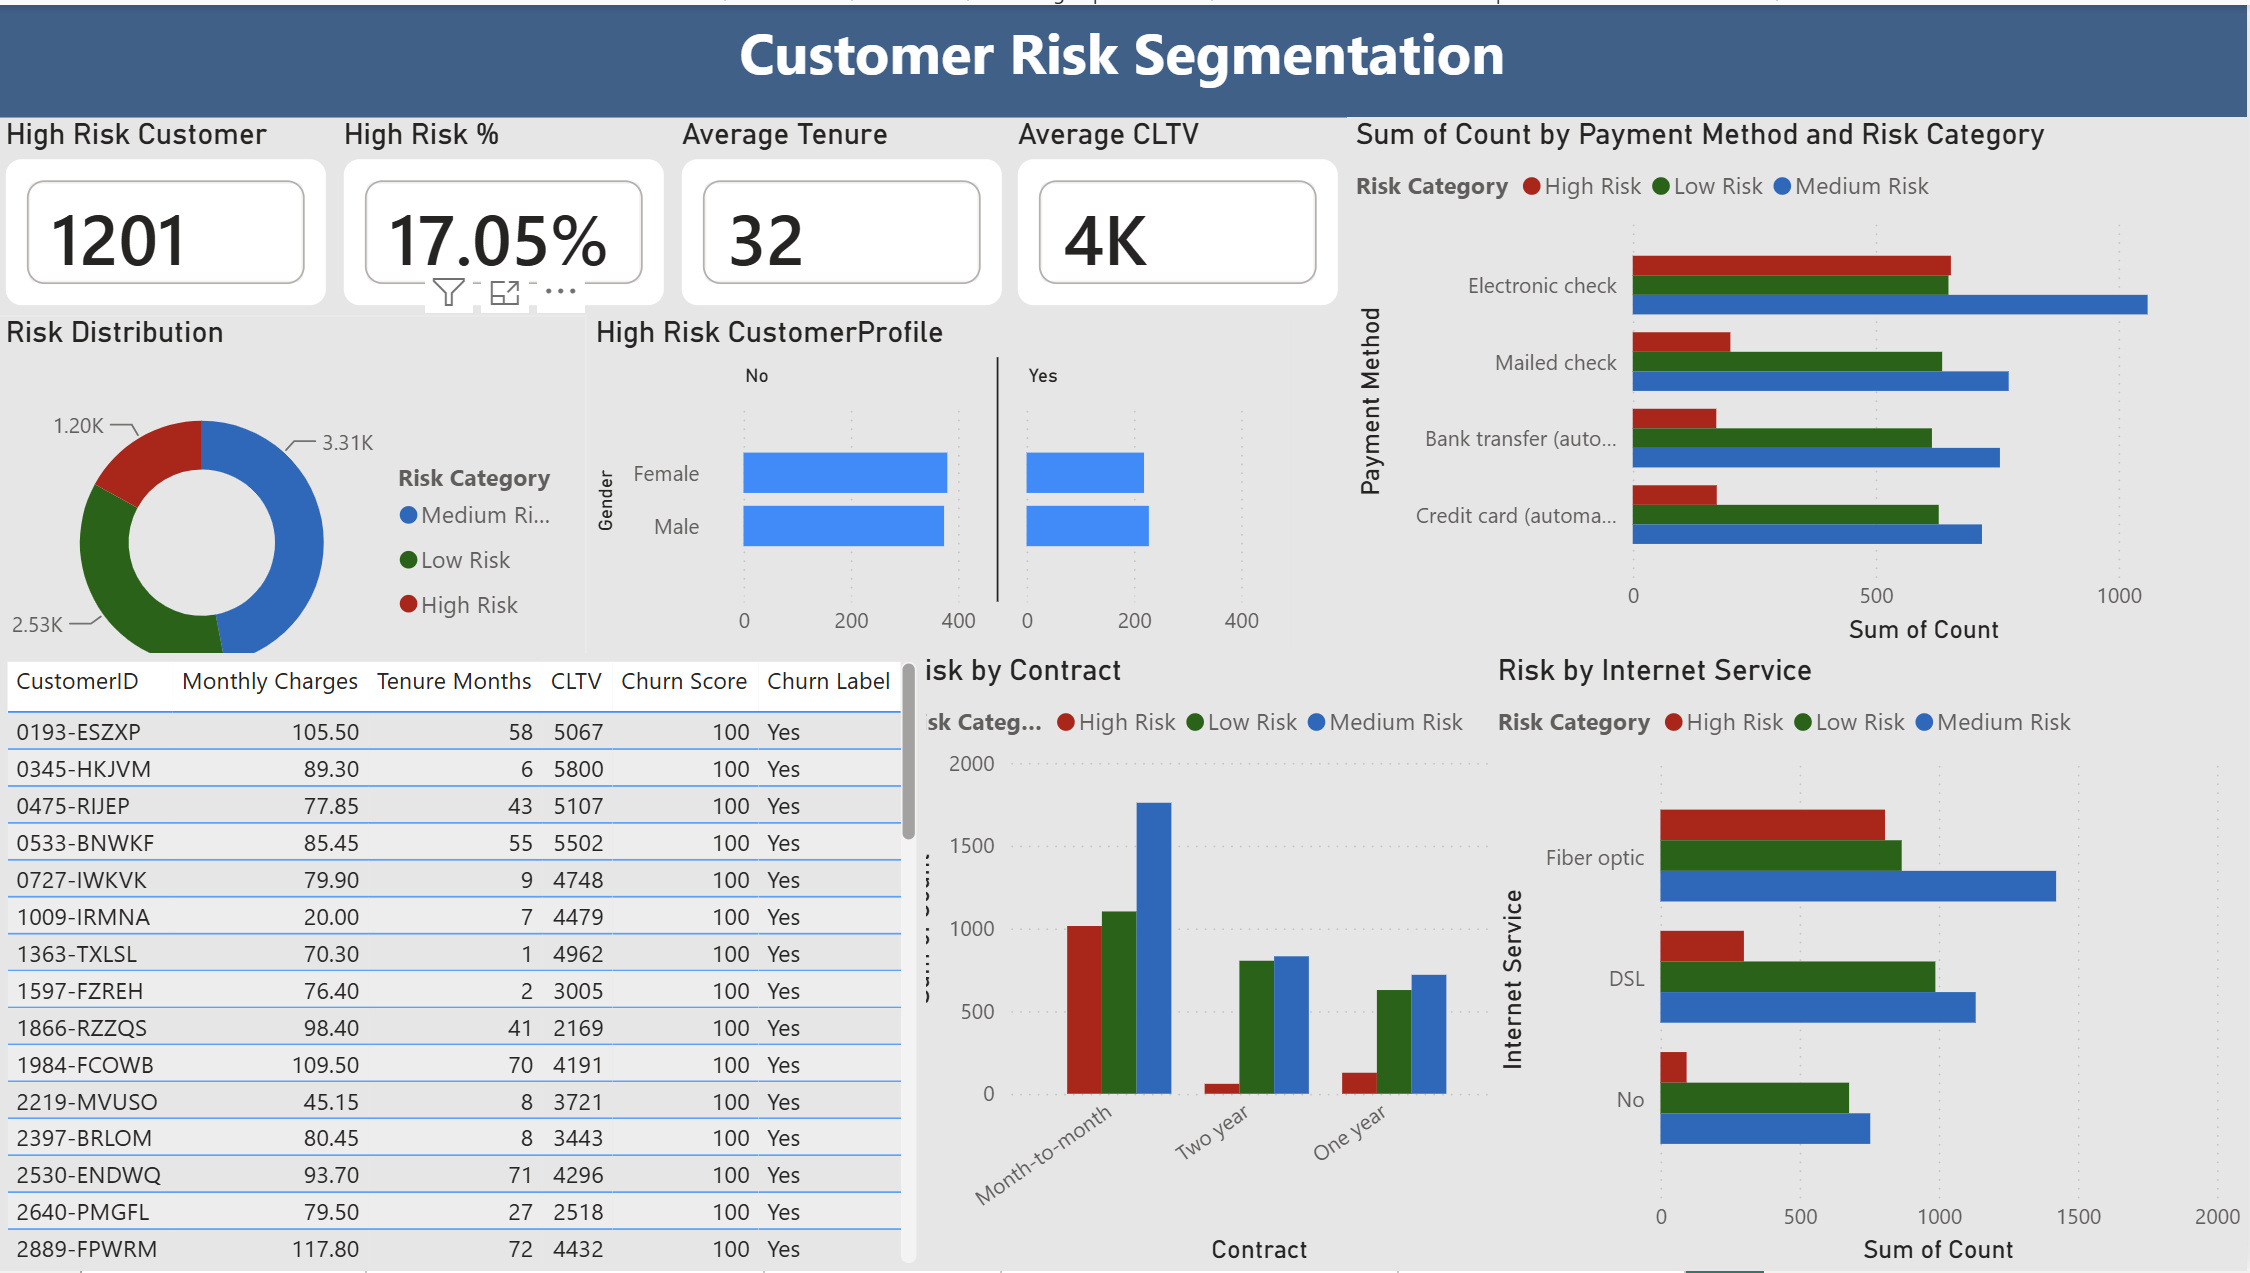

What the dashboard file says about the page in this screenshot:
{"tool":"powerbi","page":{"name":"Customer Risk Segmentation","canvas":[1280,720],"ordinal":3},"visuals":[{"type":"cardVisual","title":"Average CLTV","fields":{"Data":["Measures_Table.Average CLTV"]},"box":[576,64,192,112],"z":0},{"type":"cardVisual","title":"High Risk Customer","fields":{"Data":["Measures_Table.High Risk Customers"]},"box":[0,64,192,112],"z":1000},{"type":"cardVisual","title":"Average Tenure","fields":{"Data":["Measures_Table.Average Tenure"]},"box":[384,64,192,112],"z":2000},{"type":"cardVisual","title":"High Risk %","fields":{"Data":["Measures_Table.High Risk %"]},"box":[192,64,192,112],"z":3000},{"type":"textbox","box":[0,0,1280,64],"z":4000},{"type":"donutChart","title":"Risk Distribution","fields":{"Category":["telco_customer_clean.Risk Category"],"Y":["CountNonNull(telco_customer_clean.Count)"]},"box":[0,176,336,240],"z":5000},{"type":"clusteredColumnChart","title":"Risk by Contract","fields":{"Category":["telco_customer_clean.Contract"],"Series":["telco_customer_clean.Risk Category"],"Y":["Sum(telco_customer_clean.Count)"]},"box":[512,368,352,352],"z":6000},{"type":"clusteredBarChart","title":"Risk by Internet Service","fields":{"Category":["telco_customer_clean.Internet Service"],"Series":["telco_customer_clean.Risk Category"],"Y":["Sum(telco_customer_clean.Count)"]},"box":[848,368,432,352],"z":7000},{"type":"clusteredBarChart","fields":{"Category":["telco_customer_clean.Payment Method"],"Series":["telco_customer_clean.Risk Category"],"Y":["Sum(telco_customer_clean.Count)"]},"box":[768,64,512,304],"z":8000},{"type":"barChart","title":"High Risk CustomerProfile","fields":{"Rows":["telco_customer_clean.Partner"],"Category":["telco_customer_clean.Gender"],"Y":["Measures_Table.High Risk Customers"]},"box":[336,176,400,192],"z":9000},{"type":"tableEx","fields":{"Values":["telco_customer_clean.CustomerID","telco_customer_clean.Monthly Charges","telco_customer_clean.Tenure Months","telco_customer_clean.CLTV","telco_customer_clean.Churn Score","telco_customer_clean.Churn Label"]},"box":[0,368,528,352],"z":10000}]}

Visuals, with their boxes in screenshot pixels (x1, y1, x2, y2), scaled from the page's 1280x720 canvas onto the 2250x1273 screenshot:
"Average CLTV" cardVisual: rect(1012, 113, 1350, 311)
"High Risk Customer" cardVisual: rect(0, 113, 338, 311)
"Average Tenure" cardVisual: rect(675, 113, 1012, 311)
"High Risk %" cardVisual: rect(338, 113, 675, 311)
textbox: rect(0, 0, 2249, 113)
"Risk Distribution" donutChart: rect(0, 311, 591, 736)
"Risk by Contract" clusteredColumnChart: rect(900, 651, 1519, 1272)
"Risk by Internet Service" clusteredBarChart: rect(1491, 651, 2249, 1272)
clusteredBarChart - telco_customer_clean.Payment Method x telco_customer_clean.Risk Category: rect(1350, 113, 2249, 651)
"High Risk CustomerProfile" barChart: rect(591, 311, 1294, 651)
tableEx - telco_customer_clean.CustomerID x telco_customer_clean.Monthly Charges: rect(0, 651, 928, 1272)
